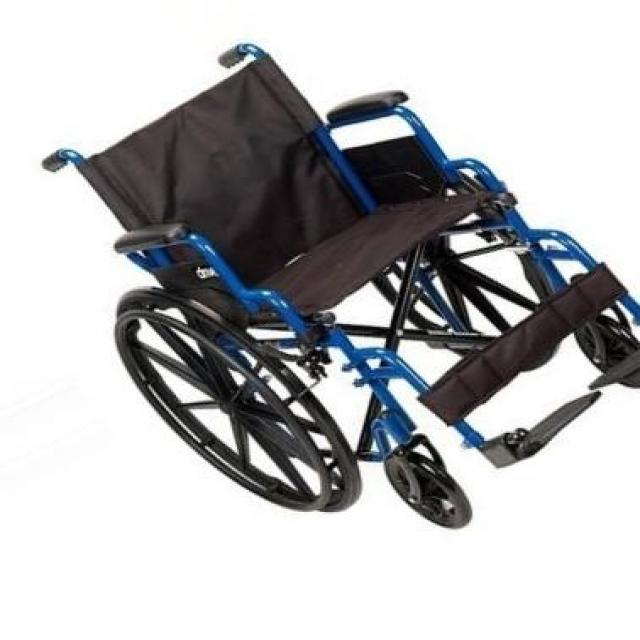wheelchair: (40, 30, 640, 542)
